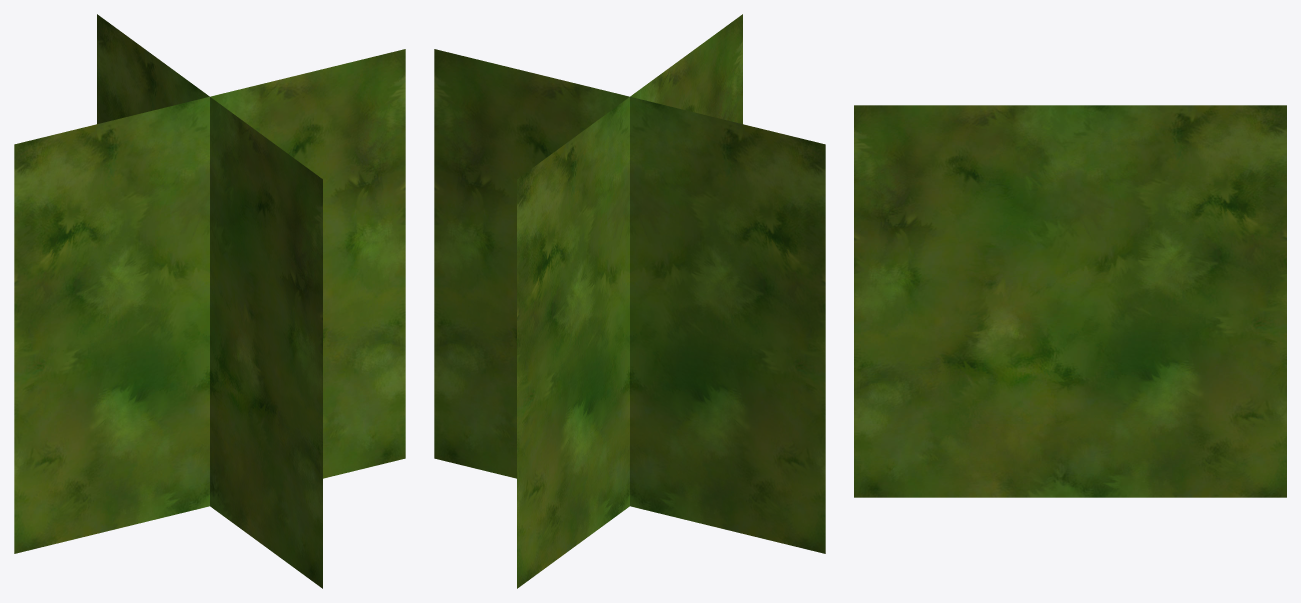
File: SM_Grass.fbx
The picture shows the model from 3 angles, left to right: view 1: azimuth 30°, elevation 25°; view 2: azimuth 150°, elevation 25°; view 3: azimuth 270°, elevation 25°; orthographic projection. The views are drawn at different scales.
Parts seen in each view (by area): view 1: pPlane3; view 2: pPlane3; view 3: pPlane3.
Boxes of the visible parts, <box> form: pPlane3: <box>14,14,405,588</box>; pPlane3: <box>434,14,825,588</box>; pPlane3: <box>854,105,1286,497</box>.
Bounding box in the file's own units: 73.98 × 73.98 × 73.98.
